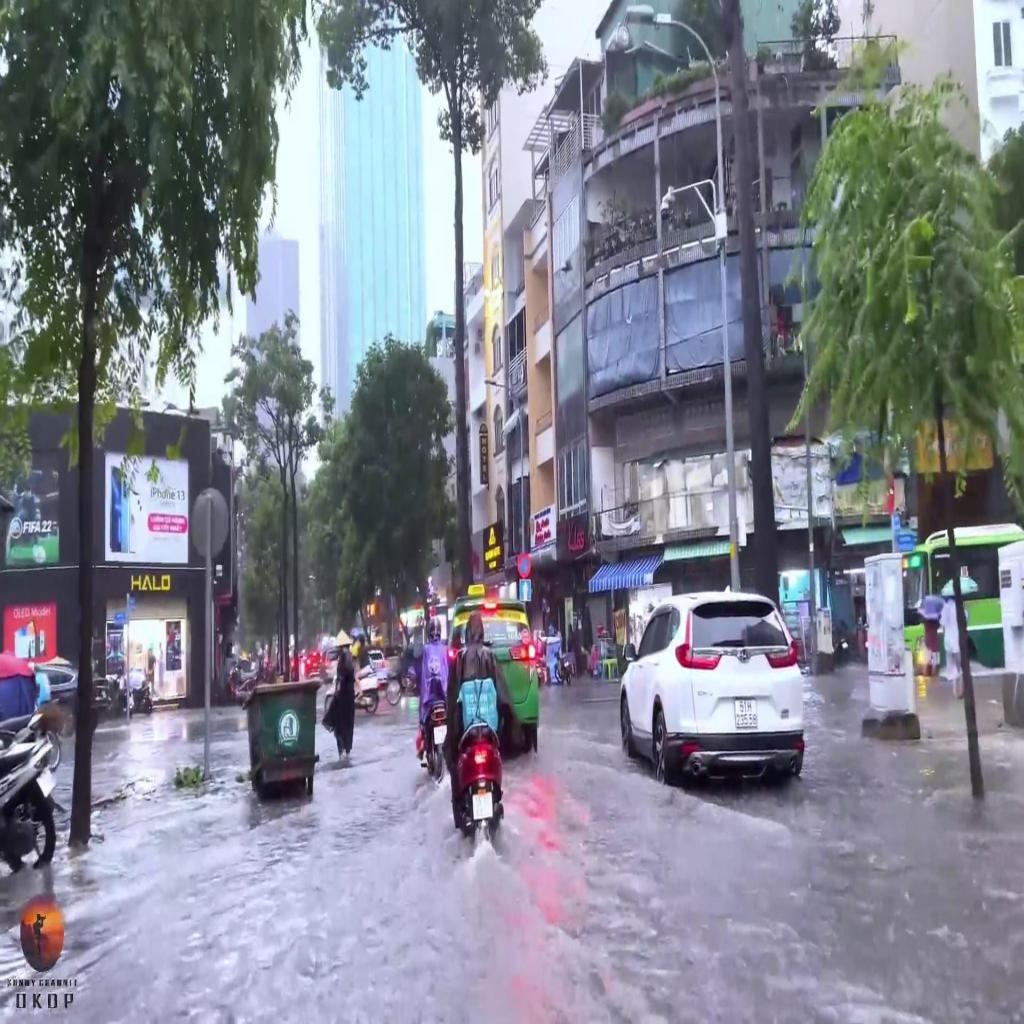cam_do_xe: (517, 553, 530, 576)
duong_mot_chieu: (520, 579, 530, 601)
